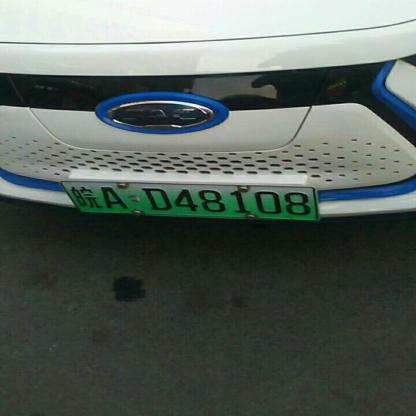lp: (58, 181, 317, 219)
